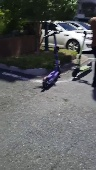beam: (41, 29, 64, 90)
gcooter: (70, 29, 94, 81)
